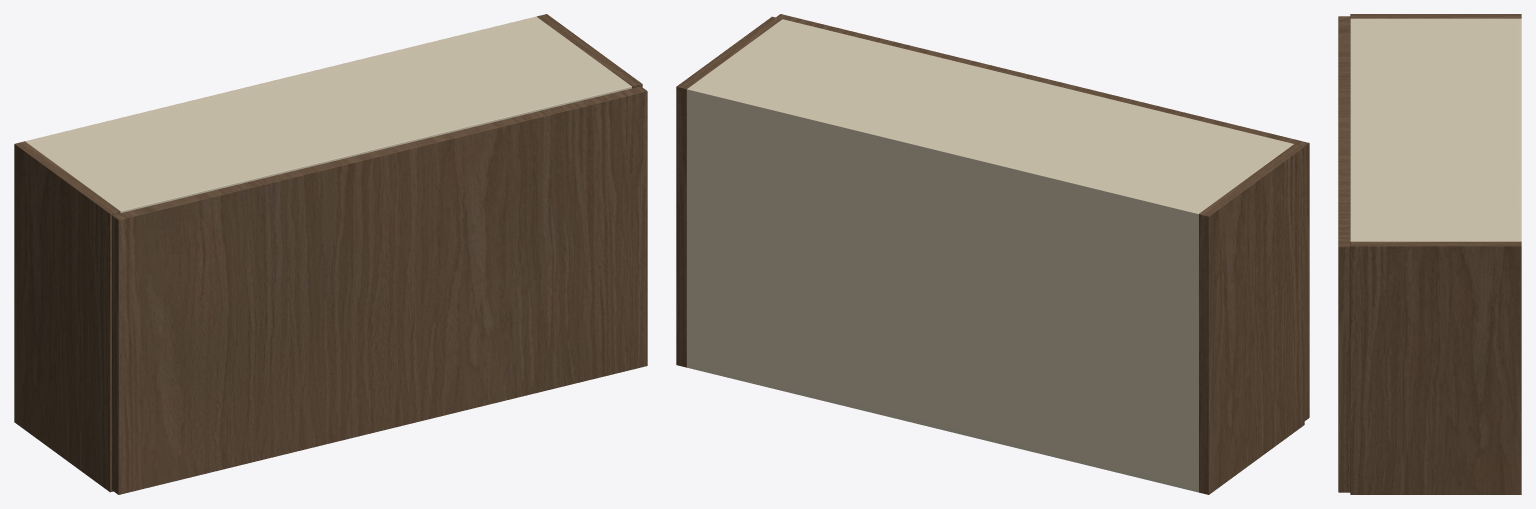
File: oppein-ply-mso-wsl3618.glb
3 views of the same model, side by side, from view 1: azimuth 30°, elevation 25°; view 2: azimuth 150°, elevation 25°; view 3: azimuth 270°, elevation 25° (orthographic). The views are drawn at different scales.
Parts seen in each view (by area): view 1: Door, Cabinet top, Cabinet side, Cabinet back, Cabinet side.001; view 2: Cabinet back, Cabinet top, Cabinet side, Door, Cabinet side.001, Cabinet bottom; view 3: Cabinet side.001, Cabinet top, Door, Cabinet back, Cabinet side.
Boxes of the visible parts, x1,y1,x2,y2 form: Door: (112,86,647,494); Cabinet top: (29,19,631,213); Cabinet side: (14,141,120,492); Cabinet back: (25,16,539,143); Cabinet side.001: (537,14,642,88); Cabinet back: (687,86,1201,492); Cabinet top: (687,19,1293,221); Cabinet side: (1198,144,1304,494); Door: (776,14,1309,420); Cabinet side.001: (676,16,781,367); Cabinet bottom: (687,357,1198,491); Cabinet side.001: (1350,241,1521,494); Cabinet top: (1350,18,1521,241); Door: (1338,16,1350,492); Cabinet back: (1514,18,1521,241); Cabinet side: (1350,14,1521,18).
Bounding box in the file's own units: 0.9144 × 0.4572 × 0.3048.
2 materials, 1 textured.
